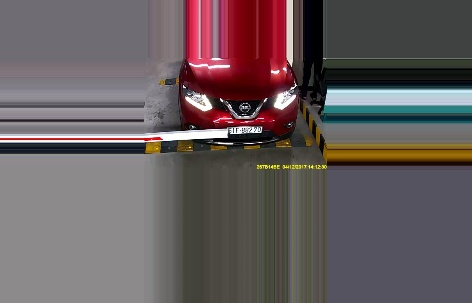plate: (223, 124, 264, 136)
